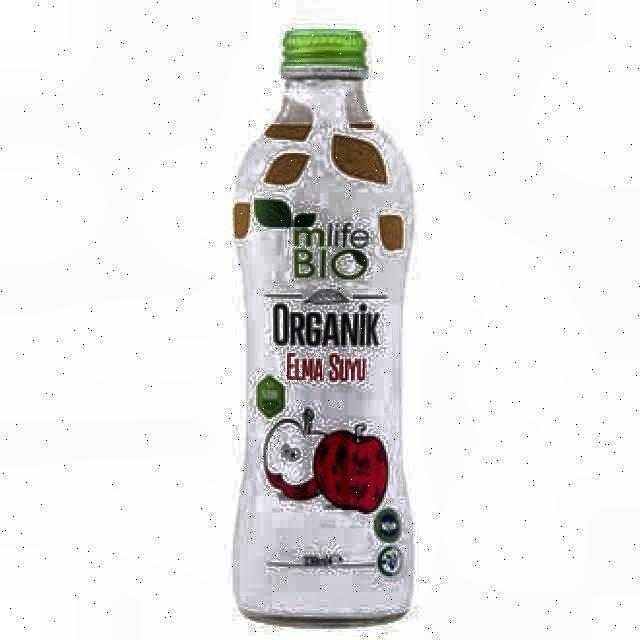glass: (232, 28, 415, 626)
